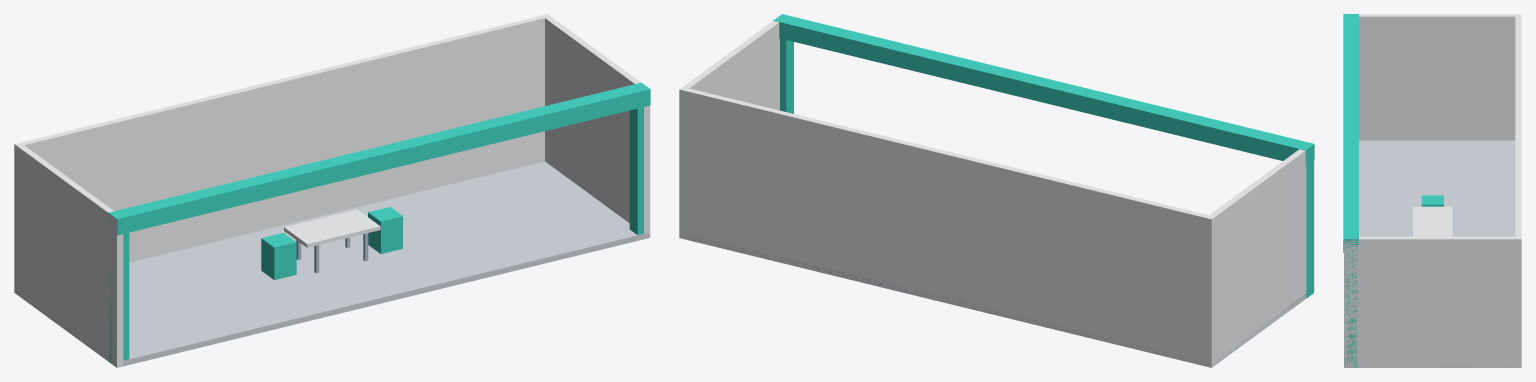
3 views of the same model, side by side, from view 1: azimuth 30°, elevation 25°; view 2: azimuth 150°, elevation 25°; view 3: azimuth 270°, elevation 25° (orthographic). The views are drawn at different scales.
Parts seen in each view (by area): view 1: Exhibition Booth Concept; view 2: Exhibition Booth Concept; view 3: Exhibition Booth Concept.
Boxes of the visible parts, <box> form: Exhibition Booth Concept: <box>14,14,650,367</box>; Exhibition Booth Concept: <box>679,14,1314,367</box>; Exhibition Booth Concept: <box>1343,14,1521,367</box>.
Bounding box in the file's own units: 12 × 3.2 × 4.02.
